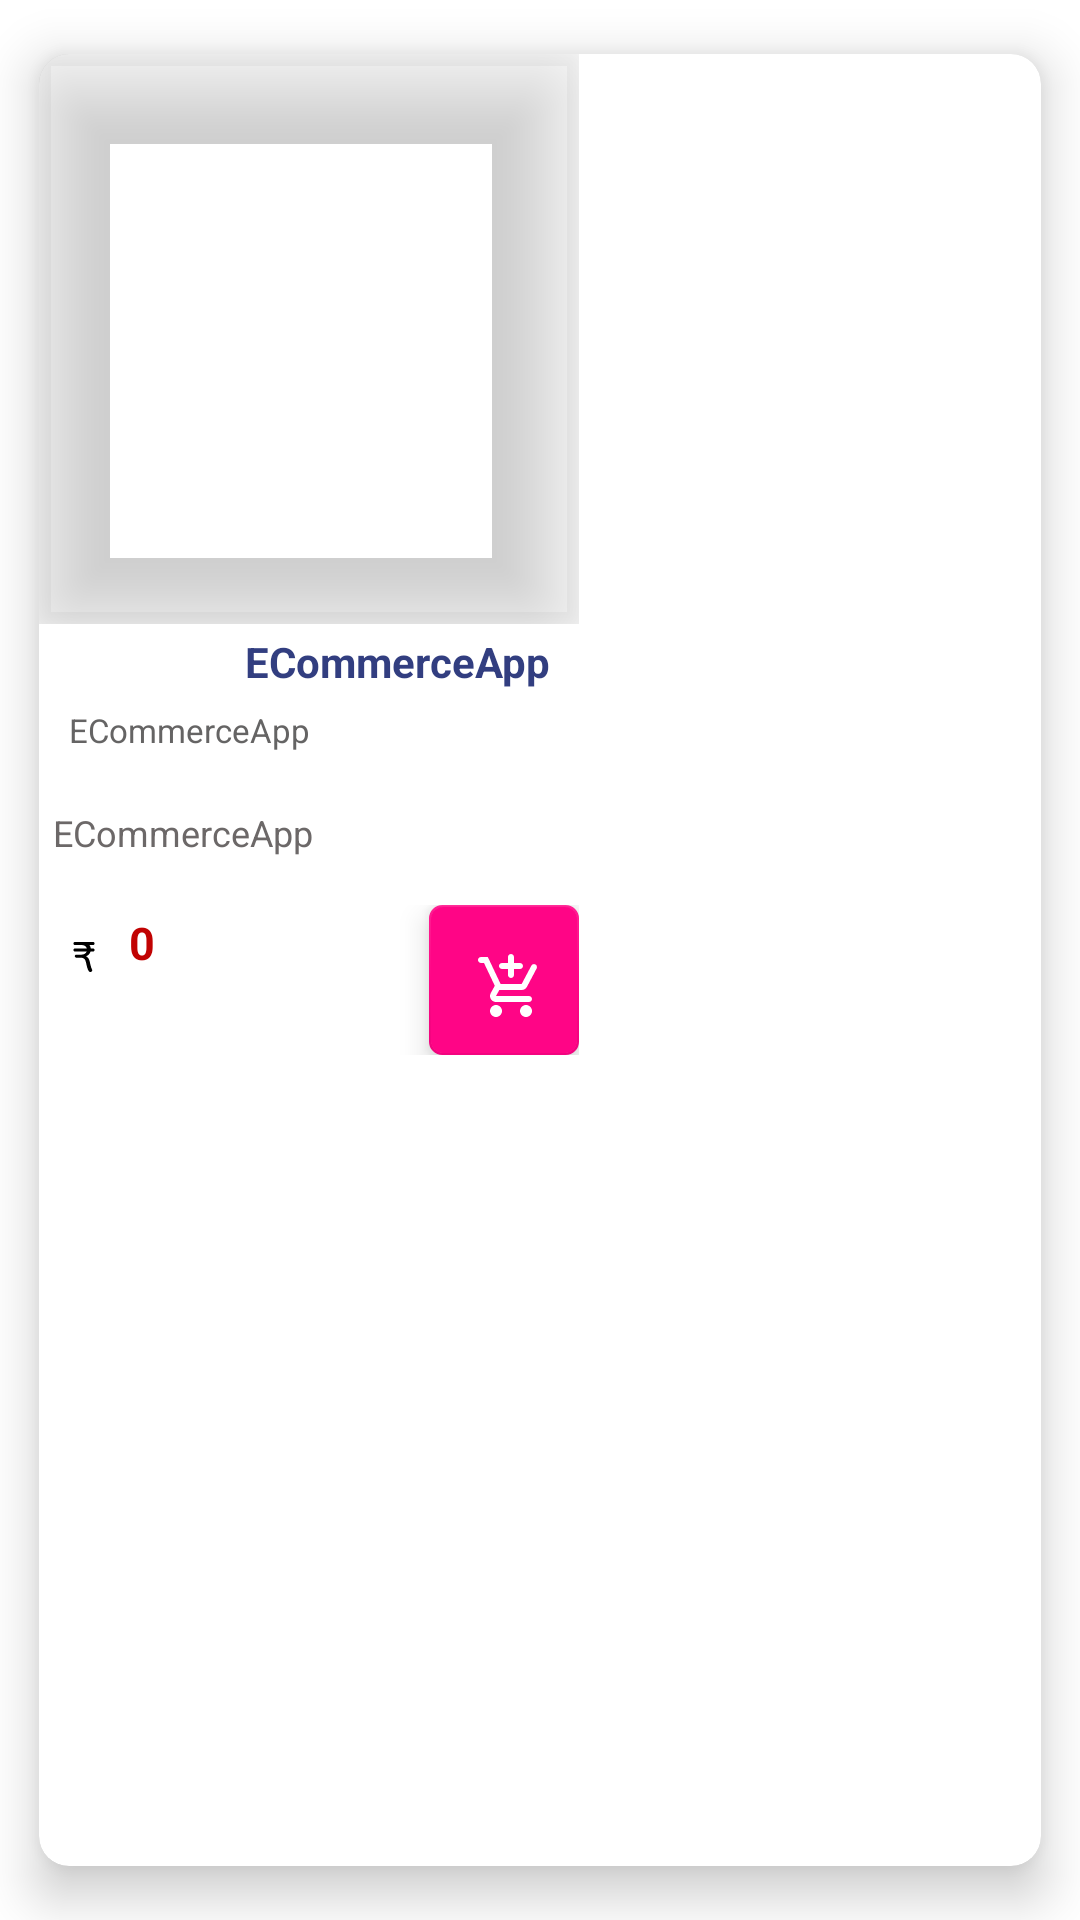

Screen size 1080px x 1920px. Icon name, then its center in pixels as (x,y):
add cart: (504,980)
rupss: (84,957)
